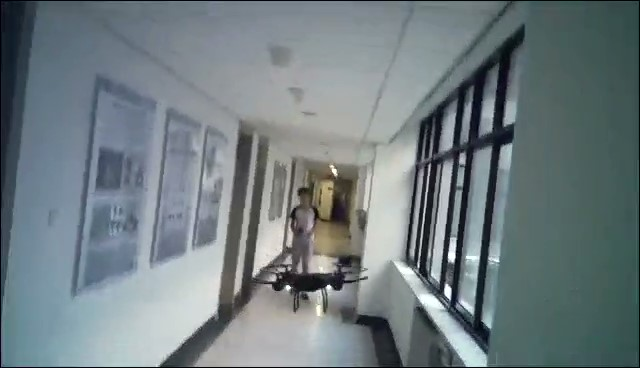drone: (250, 256, 370, 314)
person: (287, 186, 319, 300)
